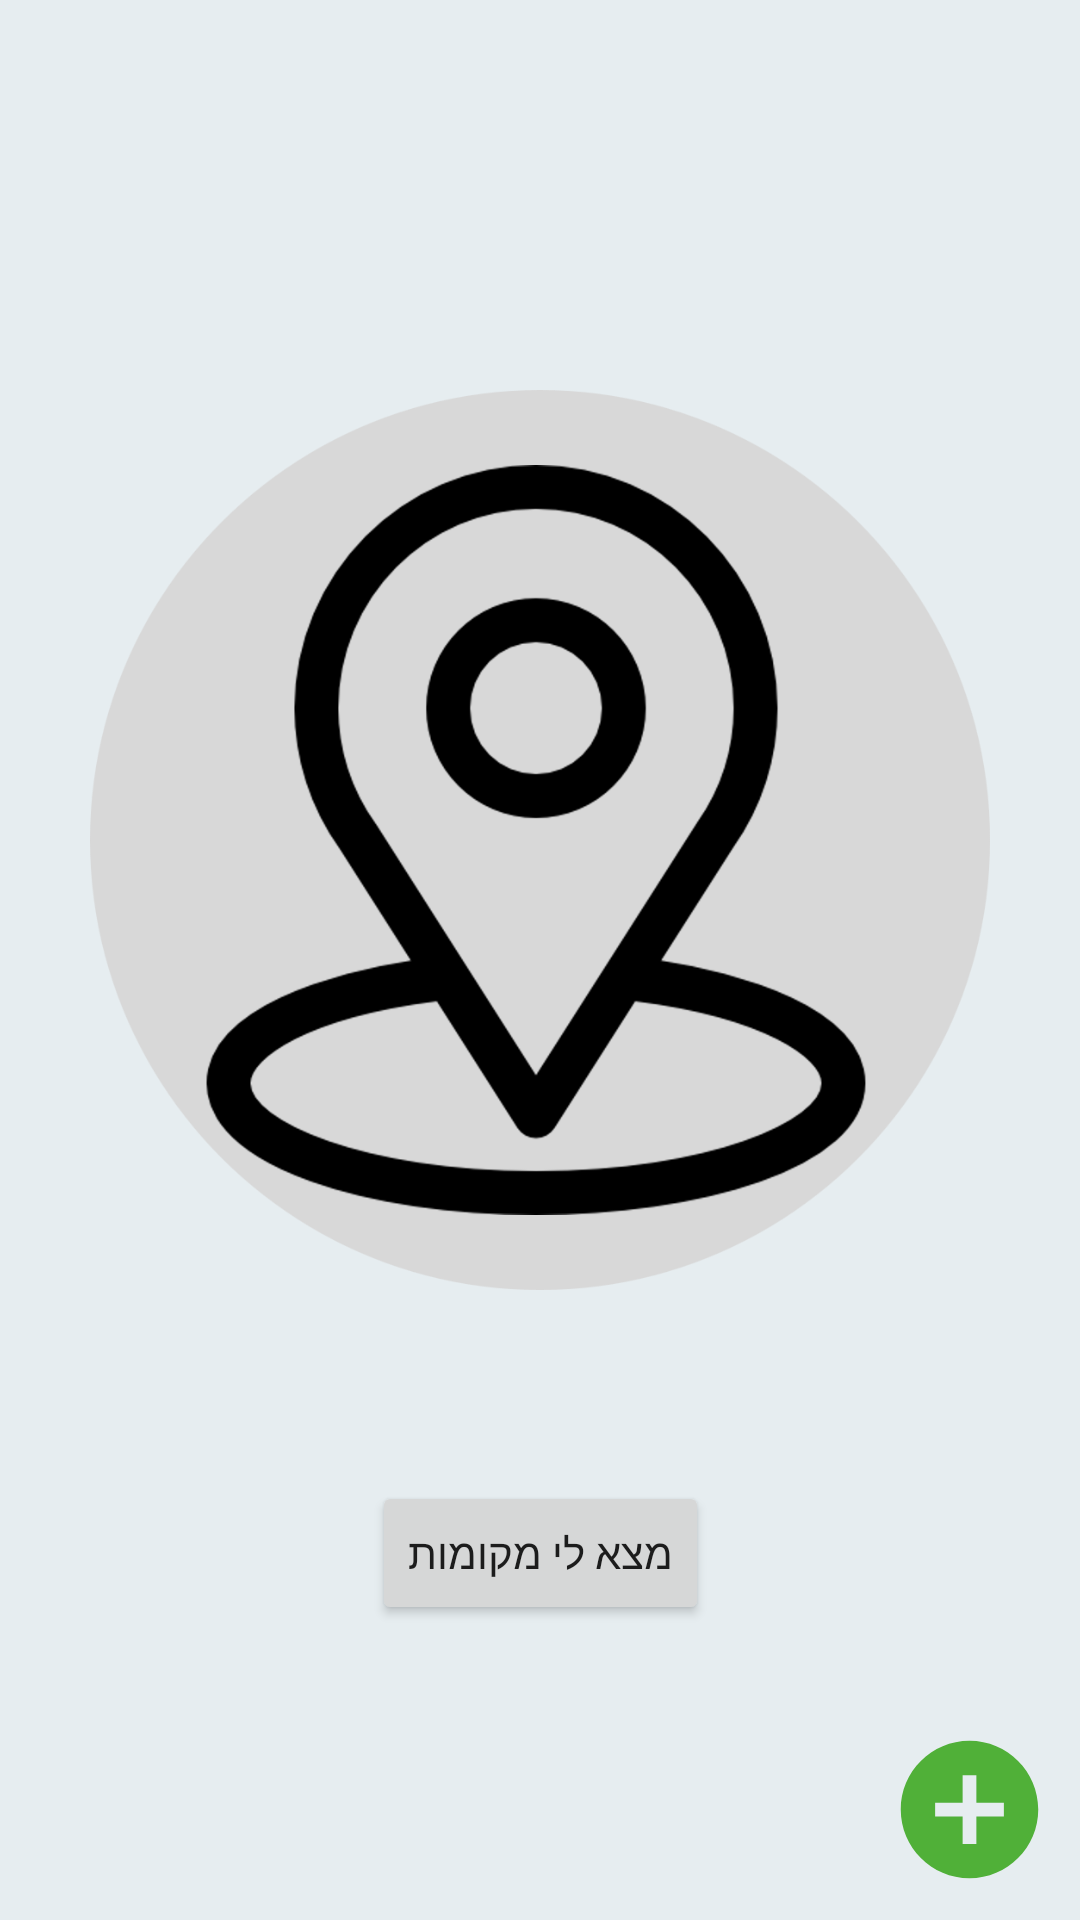

Screen size 1080px×1920px. Icon name, then its box in pixels as (x1, y1, x2, y2):
add circle: (900, 1740, 1039, 1879)
